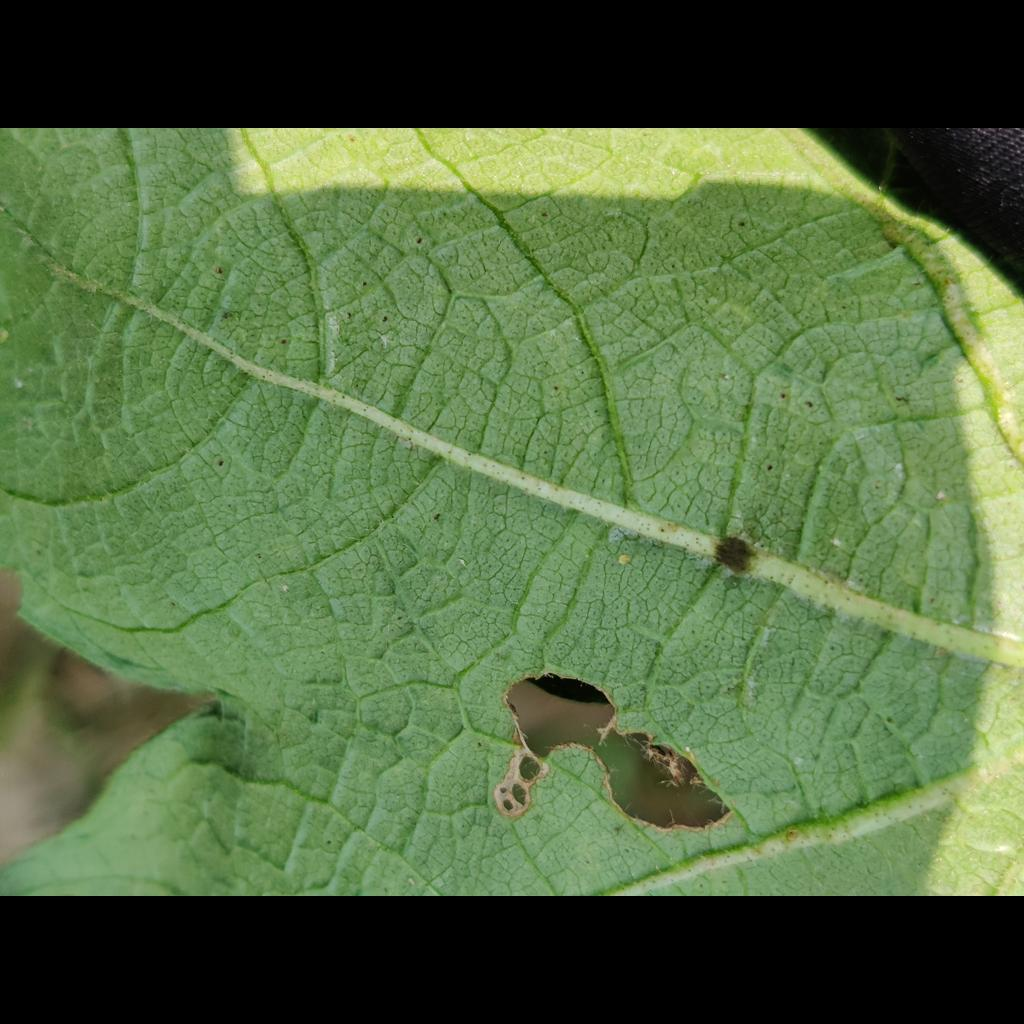nymph: (379, 334, 390, 348), (936, 490, 946, 500), (831, 538, 841, 547), (14, 380, 24, 389), (794, 756, 803, 765), (458, 558, 466, 567), (407, 878, 416, 886), (722, 374, 732, 381), (282, 585, 289, 592), (685, 746, 691, 752)
